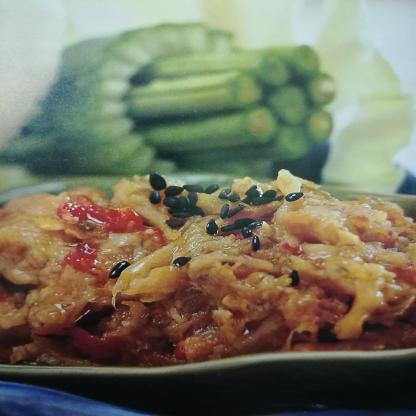Namprig: (6, 166, 415, 408)
